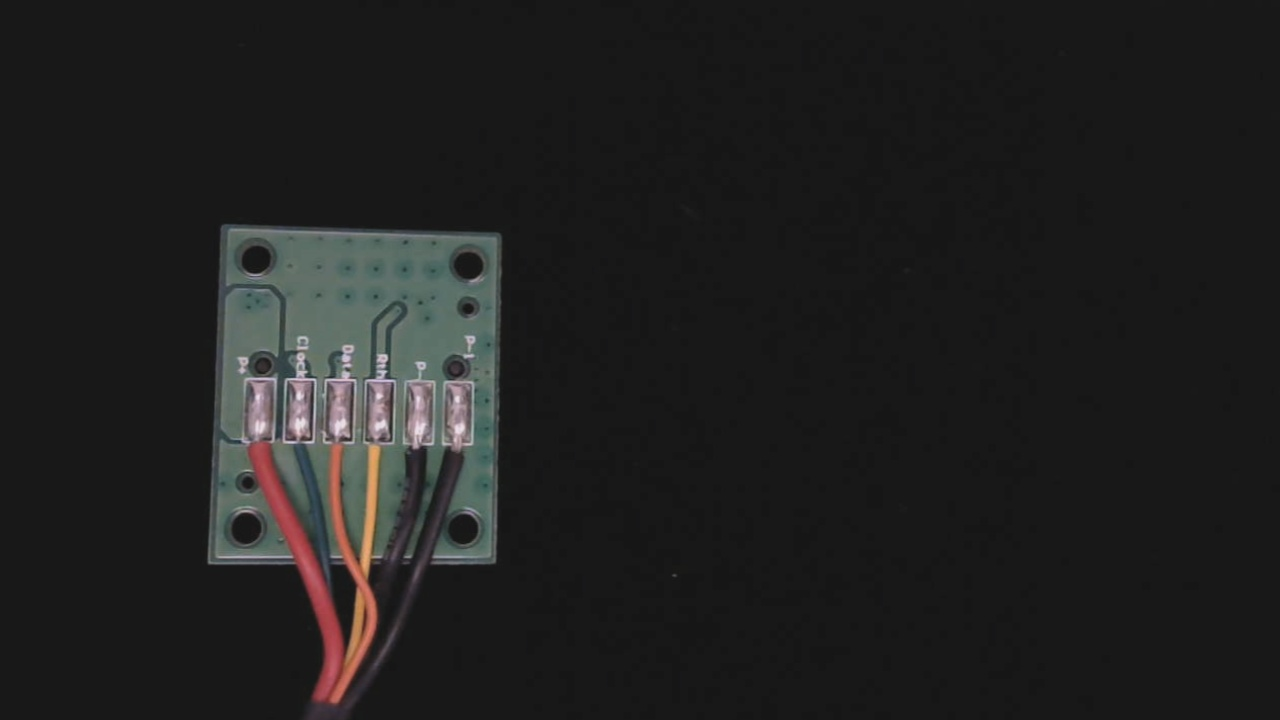Black: (402, 428, 433, 494)
Black1: (443, 426, 477, 493)
Green: (283, 422, 315, 484)
Orange: (322, 424, 354, 496)
Red: (242, 422, 275, 480)
Yellow: (361, 425, 396, 500)
